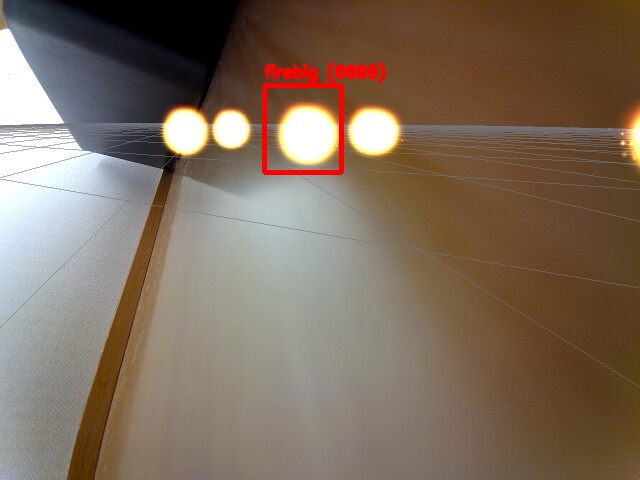firebig: (264, 85, 341, 172)
